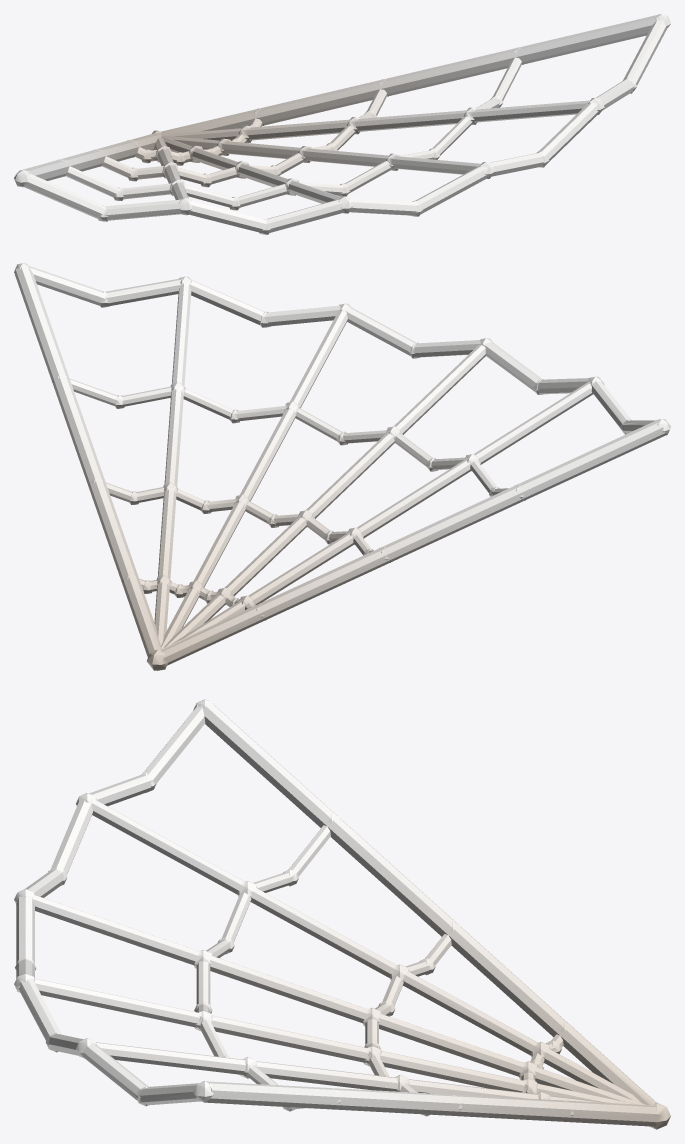
The model's file is web_corner_large.glb.
3 views of the same model, one above another, from view 1: azimuth 30°, elevation 25°; view 2: azimuth 150°, elevation 25°; view 3: azimuth 270°, elevation 25° (orthographic). The views are drawn at different scales.
Visible parts, largest first — view 1: web_corner_large; view 2: web_corner_large; view 3: web_corner_large.
Part boxes in pixels (x1,y1,x2,y2): web_corner_large: (14, 14, 670, 234); web_corner_large: (14, 263, 670, 670); web_corner_large: (14, 699, 670, 1129).
Bounding box in the file's own units: 2.54 × 0.7215 × 1.8.
1 material, 1 textured.
